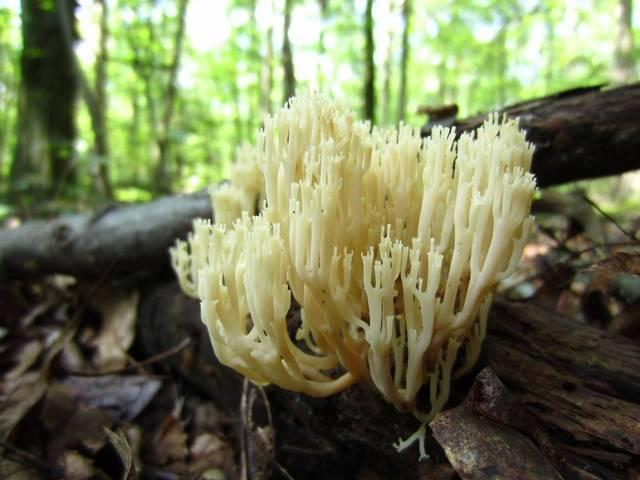edible_mushroom: (167, 85, 540, 461)
